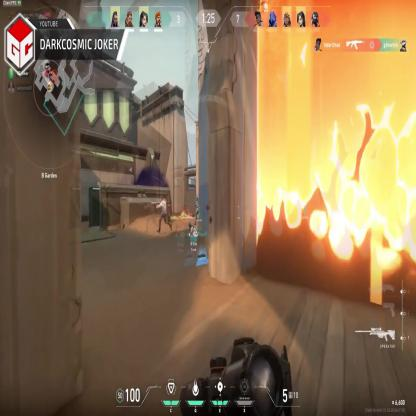enemy: (156, 192, 171, 232), (195, 194, 201, 223)
enemy_head: (161, 195, 165, 202), (196, 197, 198, 202)
